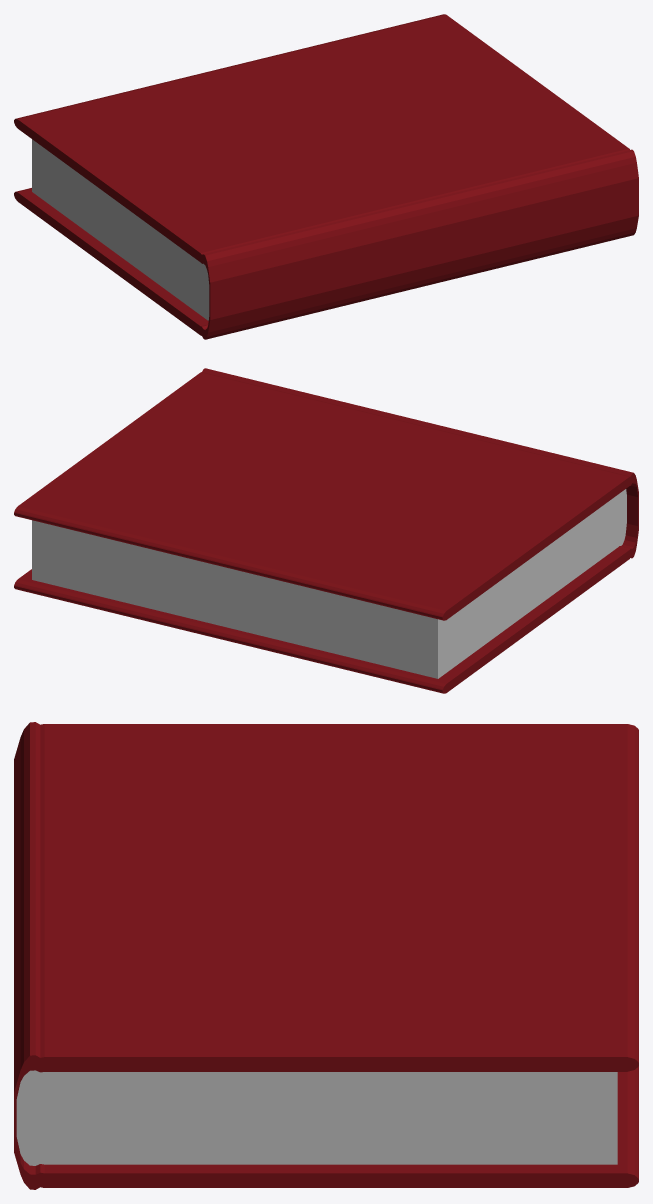
The model's file is book_red.fbx.
3 renders of one model, top to bottom at view 1: azimuth 30°, elevation 25°; view 2: azimuth 150°, elevation 25°; view 3: azimuth 270°, elevation 25°, orthographic. The views are drawn at different scales.
Parts seen in each view (by area): view 1: book; view 2: book; view 3: book.
Part boxes in pixels (x1,y1,x2,y2): book: [14, 14, 638, 339]; book: [14, 368, 638, 693]; book: [14, 722, 638, 1189].
Bounding box in the file's own units: 21.11 × 3.98 × 16.74.
